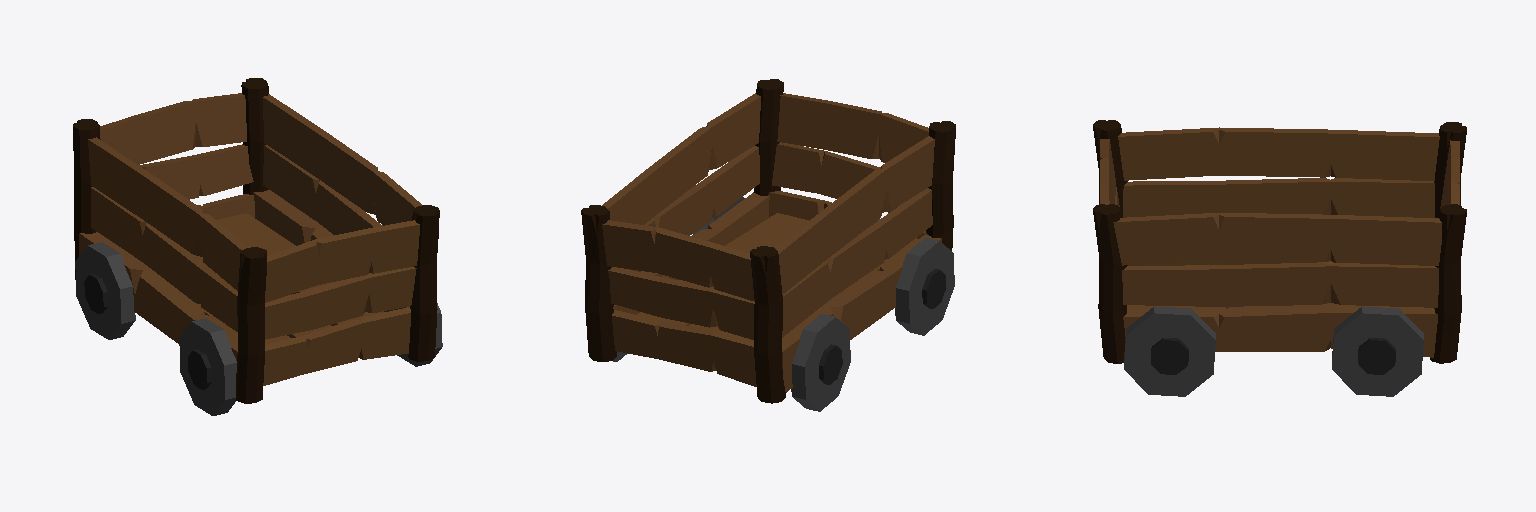
File: MineCart.obj
The picture shows the model from 3 angles: view 1: azimuth 30°, elevation 25°; view 2: azimuth 150°, elevation 25°; view 3: azimuth 270°, elevation 25°; orthographic projection.
Visible parts, largest first — view 1: pCube10, pCube13, pCube11, pCube12, pCylinder3, pCylinder7, pCylinder1, pCylinder8, pCylinder4, pCube14, pCylinder2, pCylinder12 (+1 smaller); view 2: pCube13, pCube12, pCube11, pCube10, pCylinder4, pCylinder2, pCylinder8, pCylinder7, pCylinder3, pCylinder1, pCube14, pCylinder12 (+1 smaller); view 3: pCube11, pCube13, pCylinder6, pCylinder5, pCylinder1, pCylinder2, pCylinder4, pCylinder9, pCylinder10, pCylinder3, pCube10, pCube12 (+1 smaller).
Part boxes in pixels (bbox=[...]): pCube10: bbox=[263, 220, 419, 385]; pCube13: bbox=[79, 137, 248, 360]; pCube11: bbox=[253, 94, 421, 311]; pCube12: bbox=[100, 93, 254, 219]; pCylinder3: bbox=[236, 247, 266, 403]; pCylinder7: bbox=[75, 242, 135, 339]; pCylinder1: bbox=[408, 205, 439, 361]; pCylinder8: bbox=[179, 318, 236, 415]; pCylinder4: bbox=[73, 119, 100, 279]; pCube14: bbox=[172, 213, 383, 344]; pCylinder2: bbox=[241, 78, 268, 194]; pCylinder12: bbox=[188, 349, 211, 389]; pCube13: bbox=[775, 136, 941, 392]; pCube12: bbox=[602, 220, 756, 386]; pCube11: bbox=[602, 93, 769, 314]; pCube10: bbox=[768, 93, 928, 238]; pCylinder4: bbox=[750, 246, 785, 403]; pCylinder2: bbox=[581, 205, 616, 361]; pCylinder8: bbox=[895, 237, 954, 335]; pCylinder7: bbox=[791, 314, 850, 411]; pCylinder3: bbox=[926, 121, 955, 250]; pCylinder1: bbox=[754, 79, 783, 195]; pCube14: bbox=[637, 213, 917, 340]; pCylinder12: bbox=[922, 269, 945, 308]; pCube11: bbox=[1113, 213, 1441, 357]; pCube13: bbox=[1118, 127, 1439, 217]; pCylinder6: bbox=[1332, 306, 1423, 396]; pCylinder5: bbox=[1124, 306, 1215, 396]; pCylinder1: bbox=[1093, 204, 1127, 363]; pCylinder2: bbox=[1430, 204, 1466, 363]; pCylinder4: bbox=[1434, 122, 1466, 217]; pCylinder9: bbox=[1151, 338, 1188, 374]; pCylinder10: bbox=[1358, 338, 1395, 374]; pCylinder3: bbox=[1093, 120, 1127, 217]; pCube10: bbox=[1100, 139, 1119, 206]; pCube12: bbox=[1440, 140, 1459, 207].
Size of the model in its own units: 5.38 by 3.99 by 7.69.